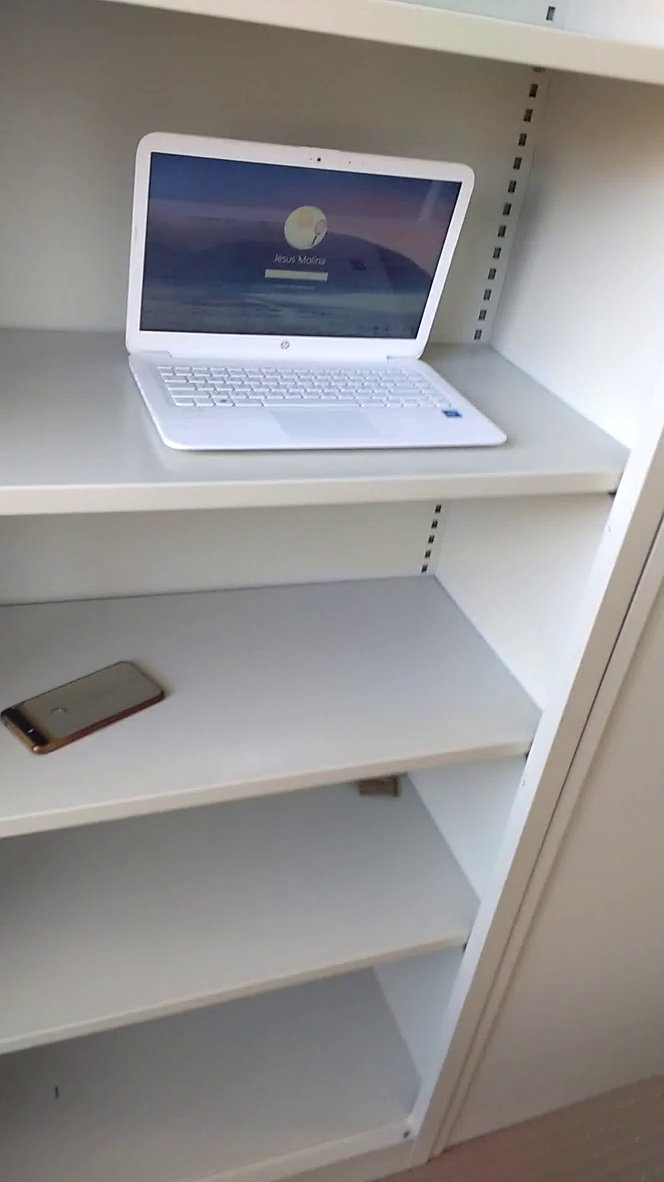laptop: (112, 120, 542, 469)
phone: (1, 647, 184, 763)
